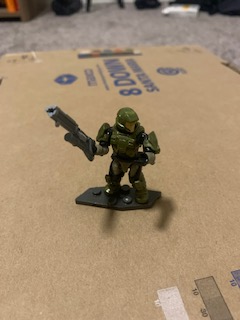soldier: (44, 101, 159, 202)
